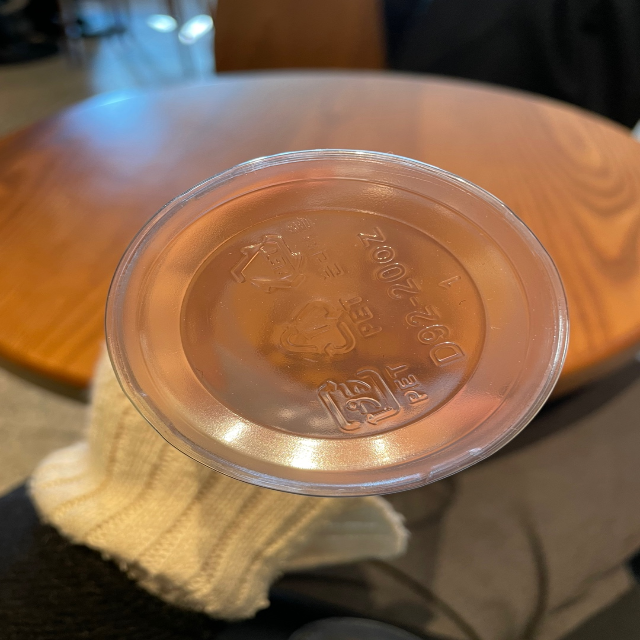pet: (220, 211, 348, 294), (316, 364, 432, 437), (269, 293, 384, 362)
